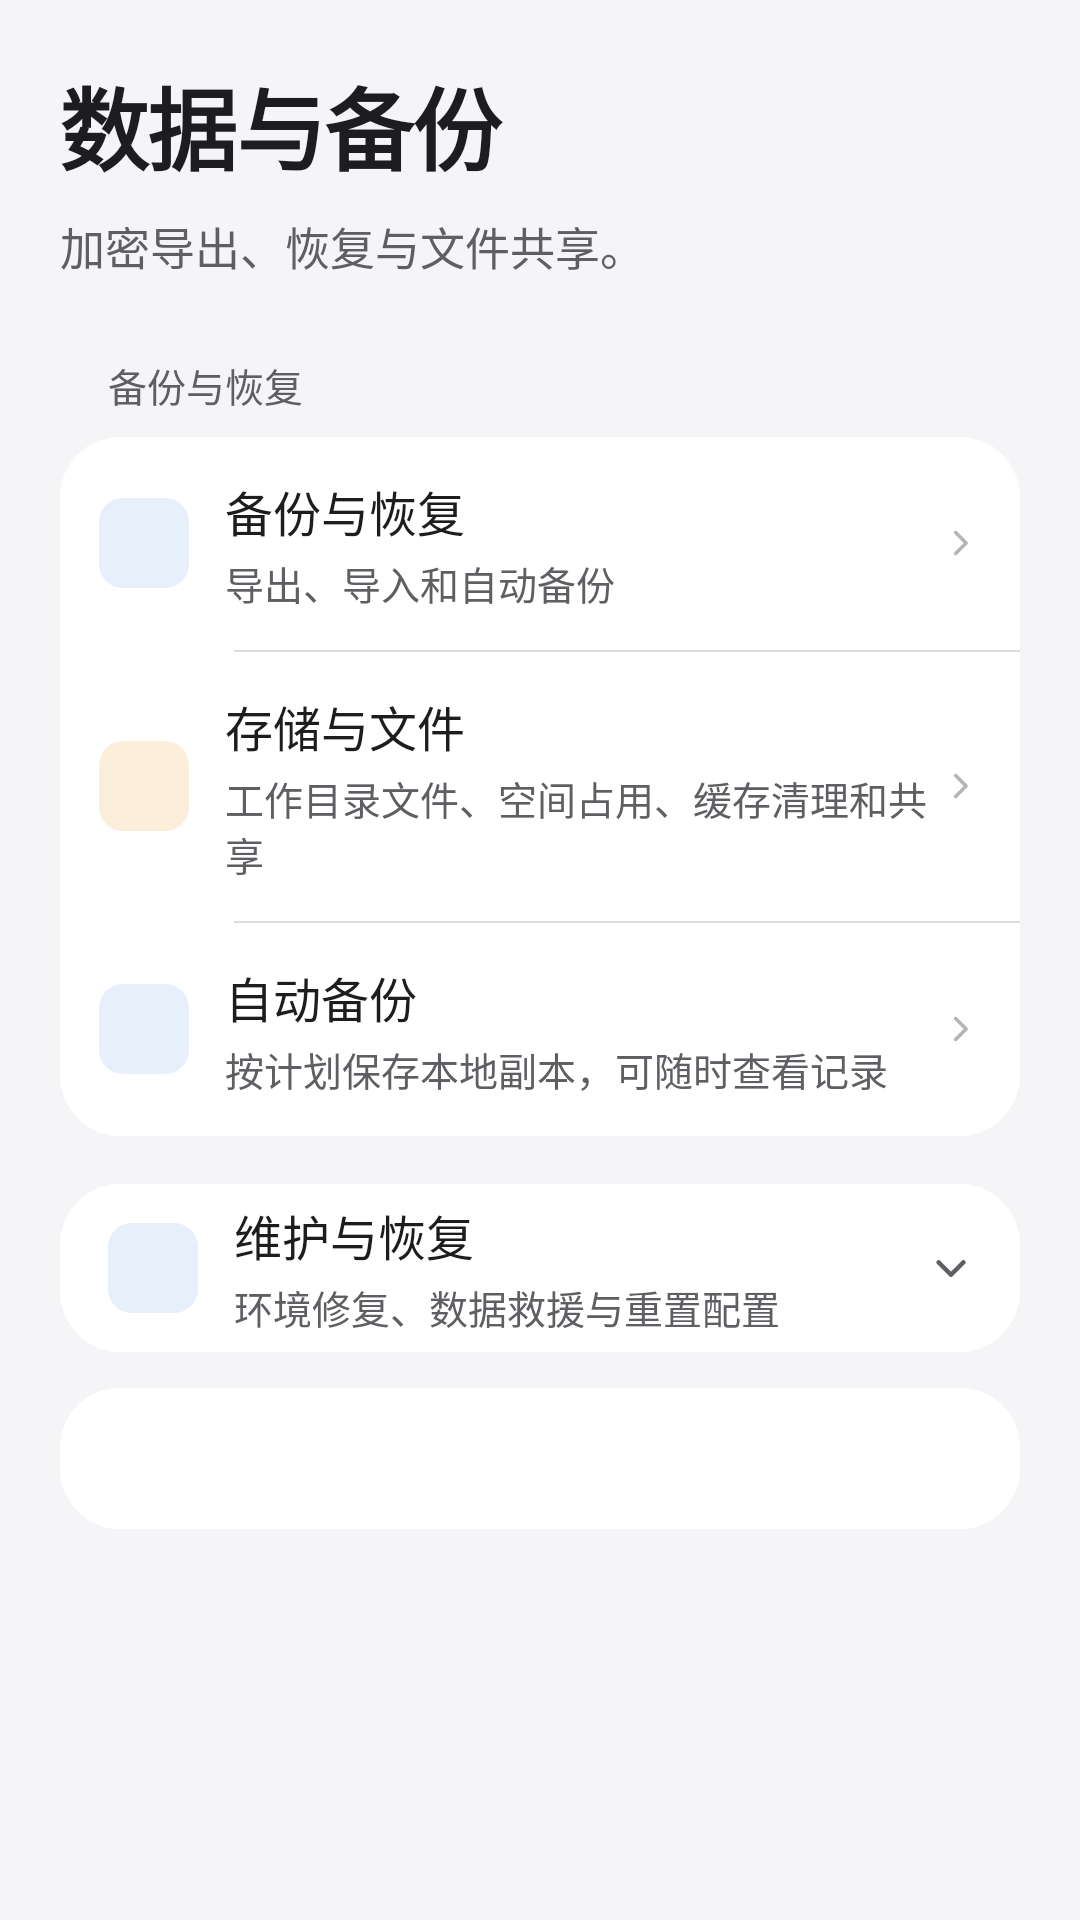

Icons on this 1080 × 1920 Android screen, each with its box as (x1,y1,x2,y2):
disclosure: (936,1260,966,1277)
ui chevron: (954,531,968,555), (954,774,968,798), (954,1017,968,1041)
